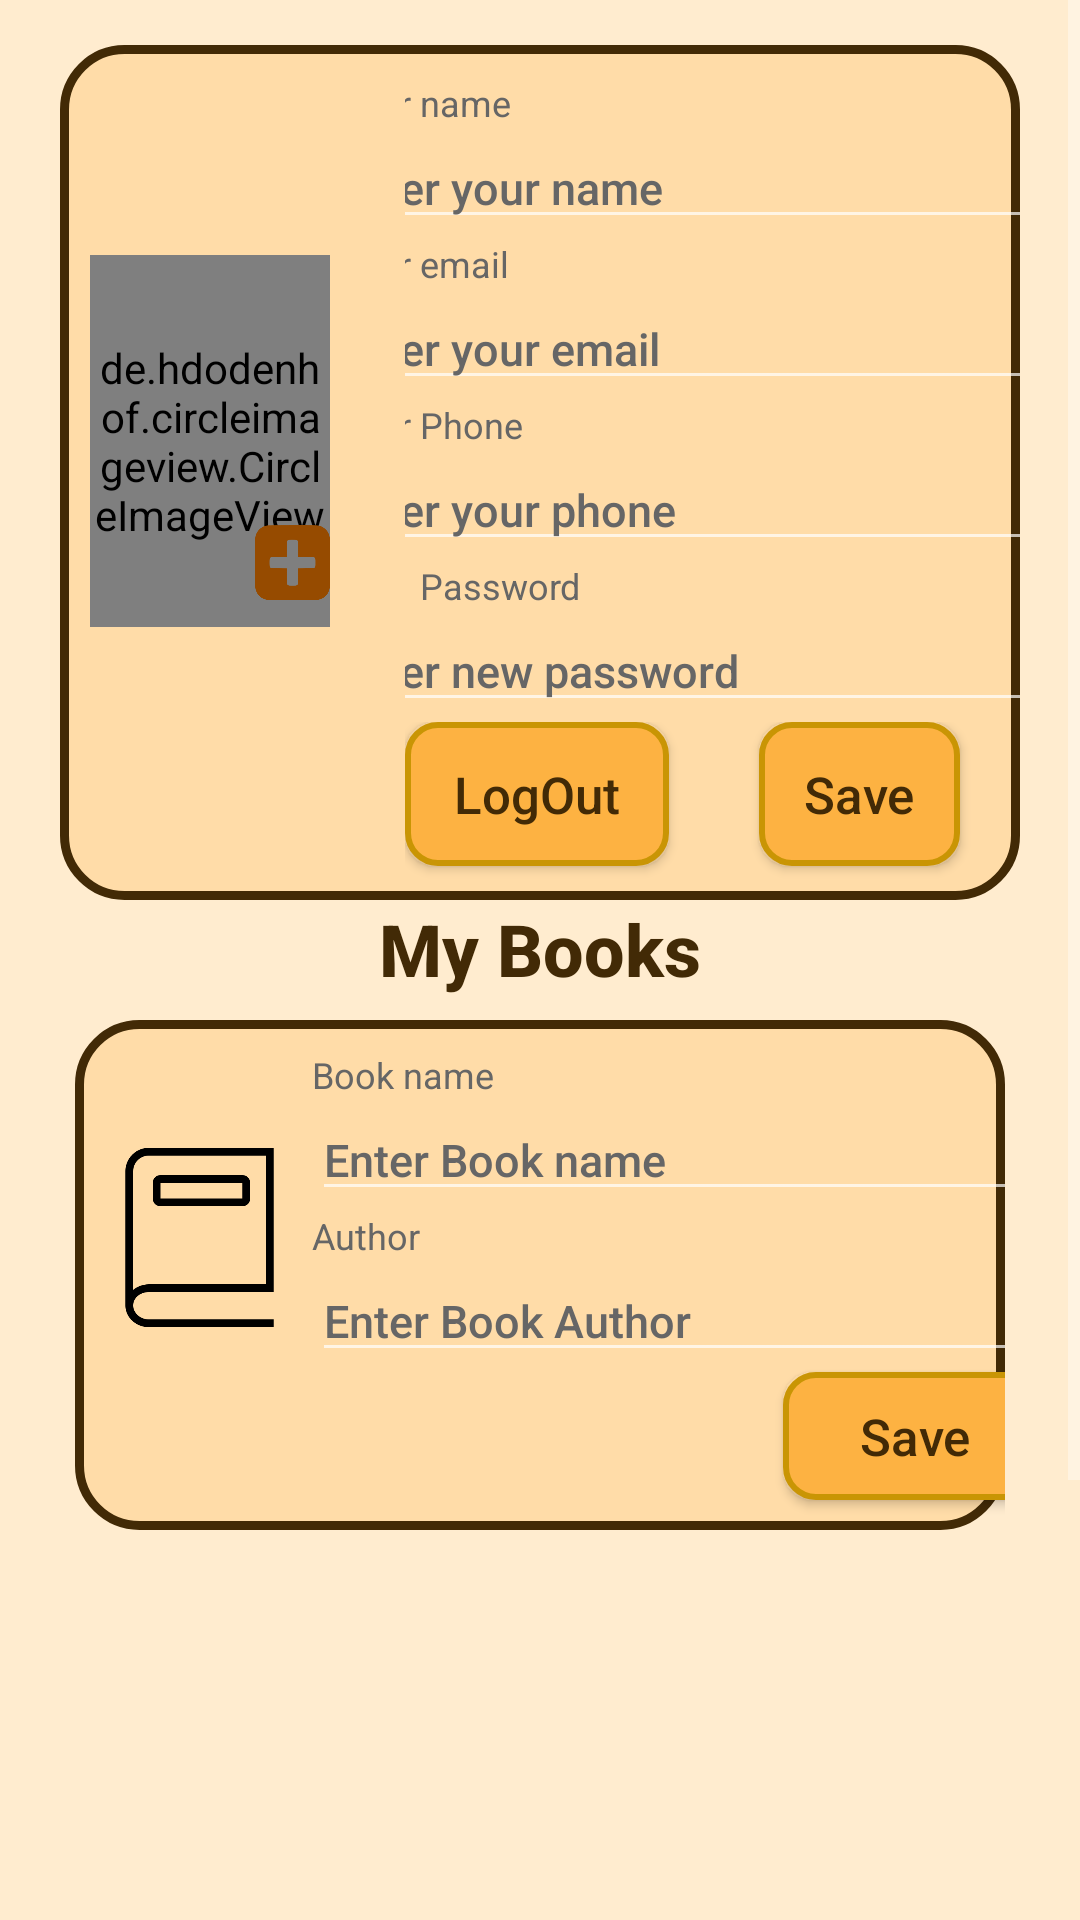

Icons on this 1080 x 1920 Android screen, each with its box as (x1, y1, x2, y2):
plus: (255, 525, 330, 600)
